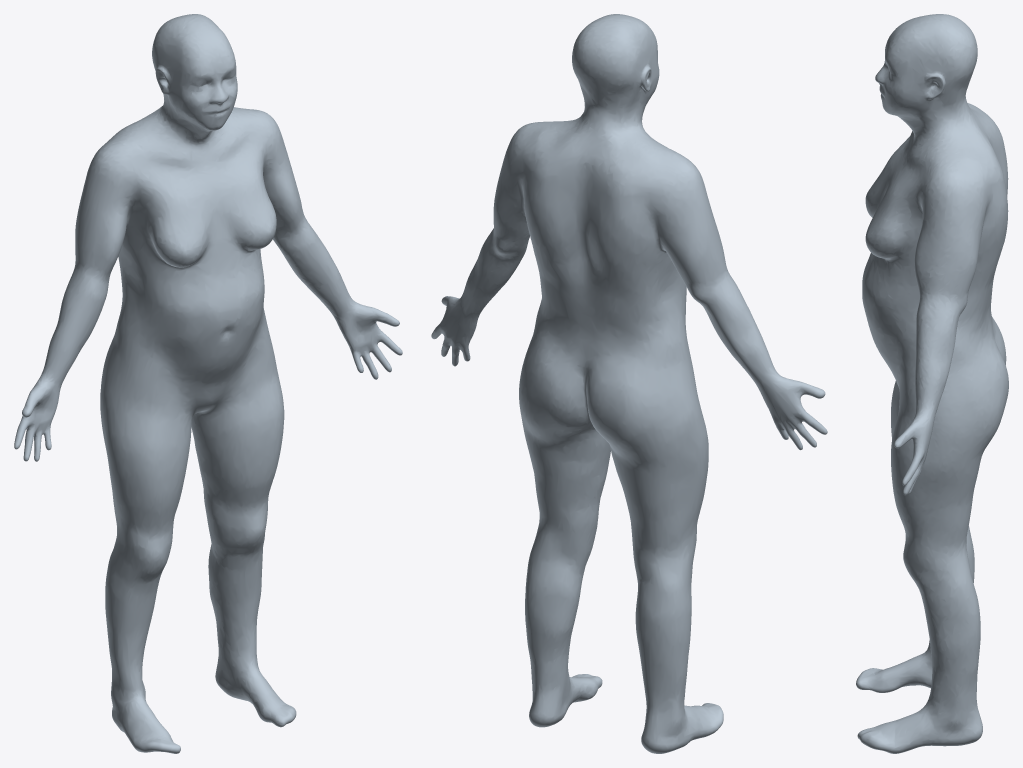
Rendered from female.glb.
3 views of the same model, side by side, from view 1: azimuth 30°, elevation 25°; view 2: azimuth 150°, elevation 25°; view 3: azimuth 270°, elevation 25° (orthographic).
Parts seen in each view (by area): view 1: skin; view 2: skin; view 3: skin.
Part boxes in pixels (<box>): skin: <box>14,14,402,753</box>; skin: <box>431,14,827,753</box>; skin: <box>856,14,1008,753</box>.
Size of the model in its own units: 0.9618 by 1.66 by 0.327.
